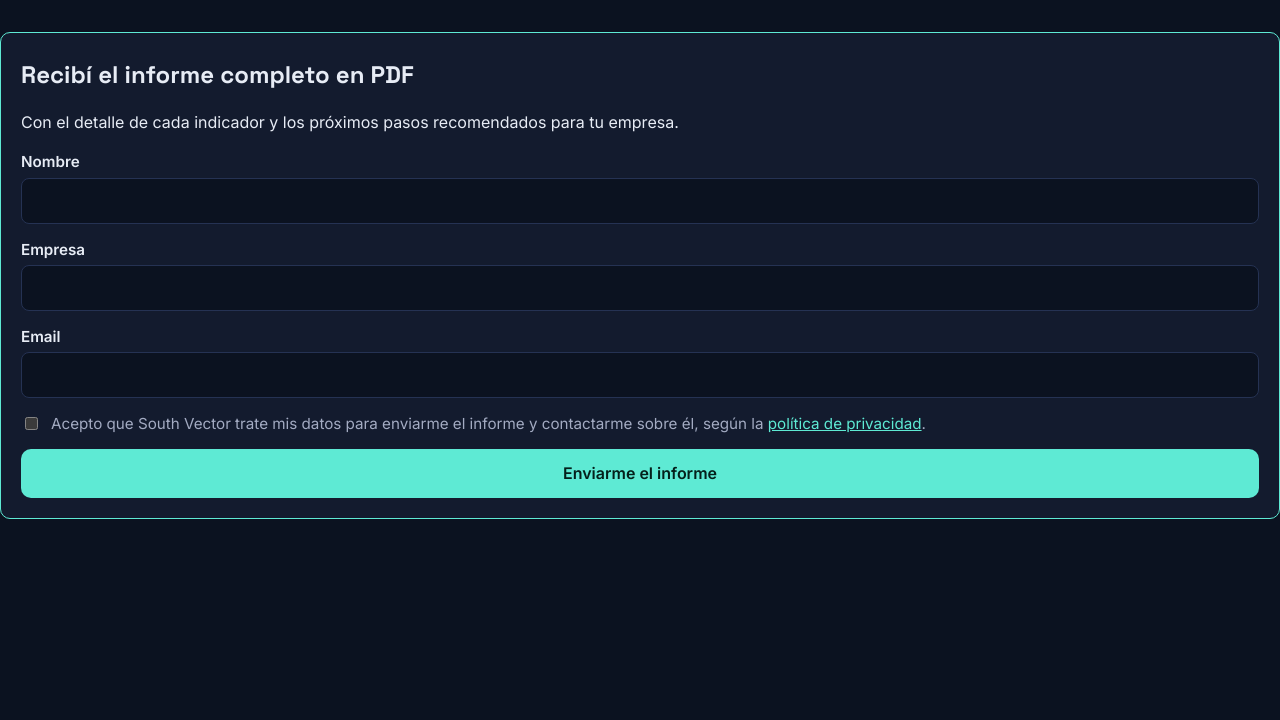
Test case: PedidoInforme › muestra el error que devuelve el servidor
Type "Ana" into the field labelled "Nombre".
click(640, 201); type("Ana")  # box 21,178 -> 1259,224
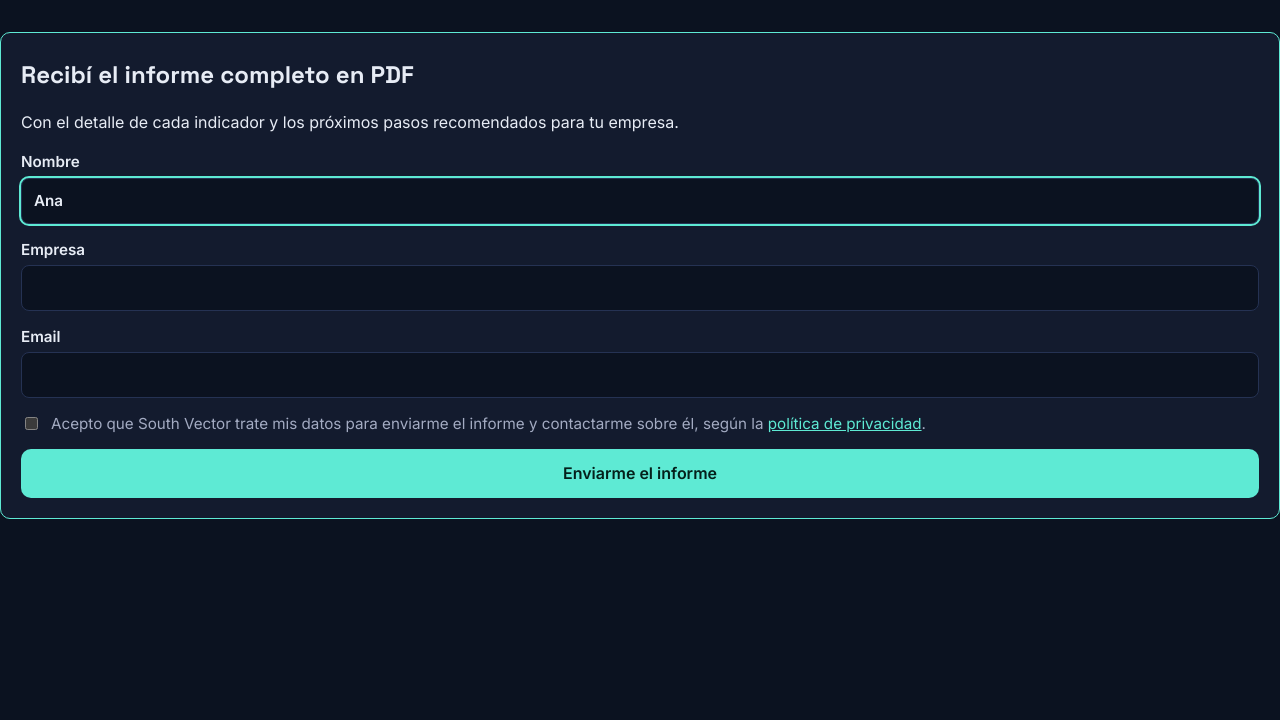
Type "ACME" into the field labelled "Empresa".
click(640, 288); type("ACME")  # box 21,265 -> 1259,311
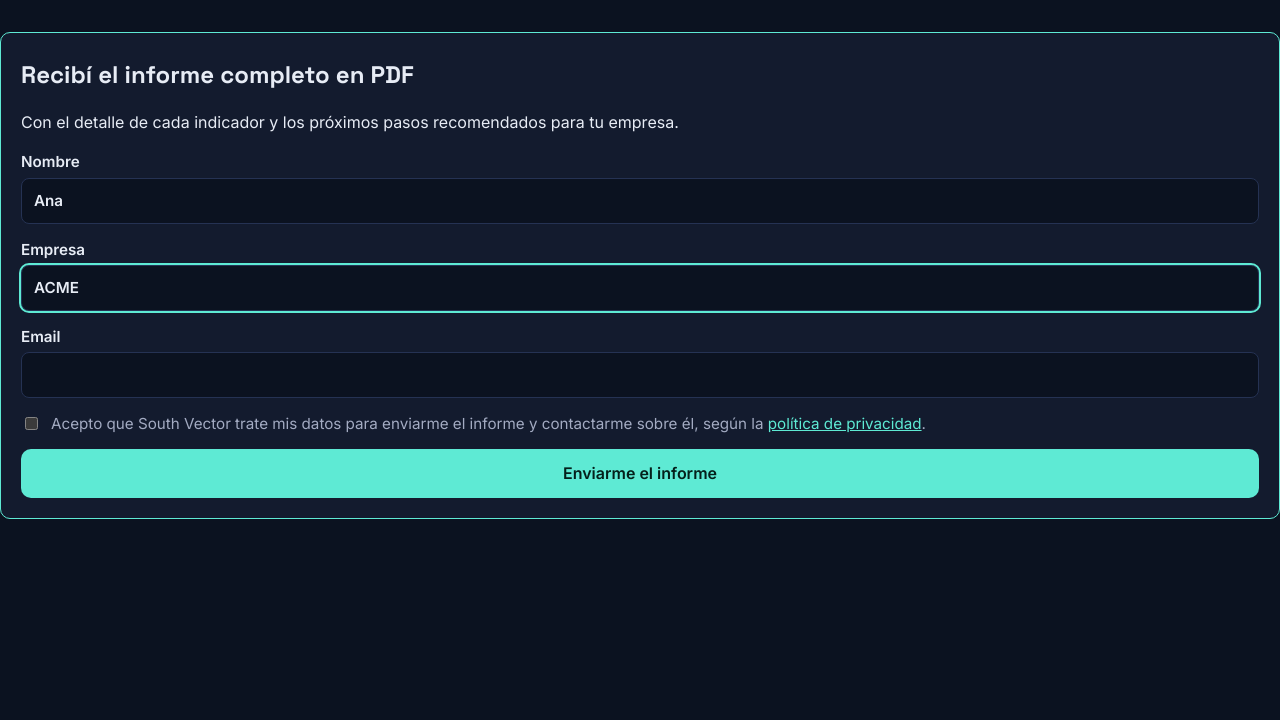
Type "ana@acme.com" into the field labelled "Email".
click(640, 375); type("ana@acme.com")  # box 21,352 -> 1259,398
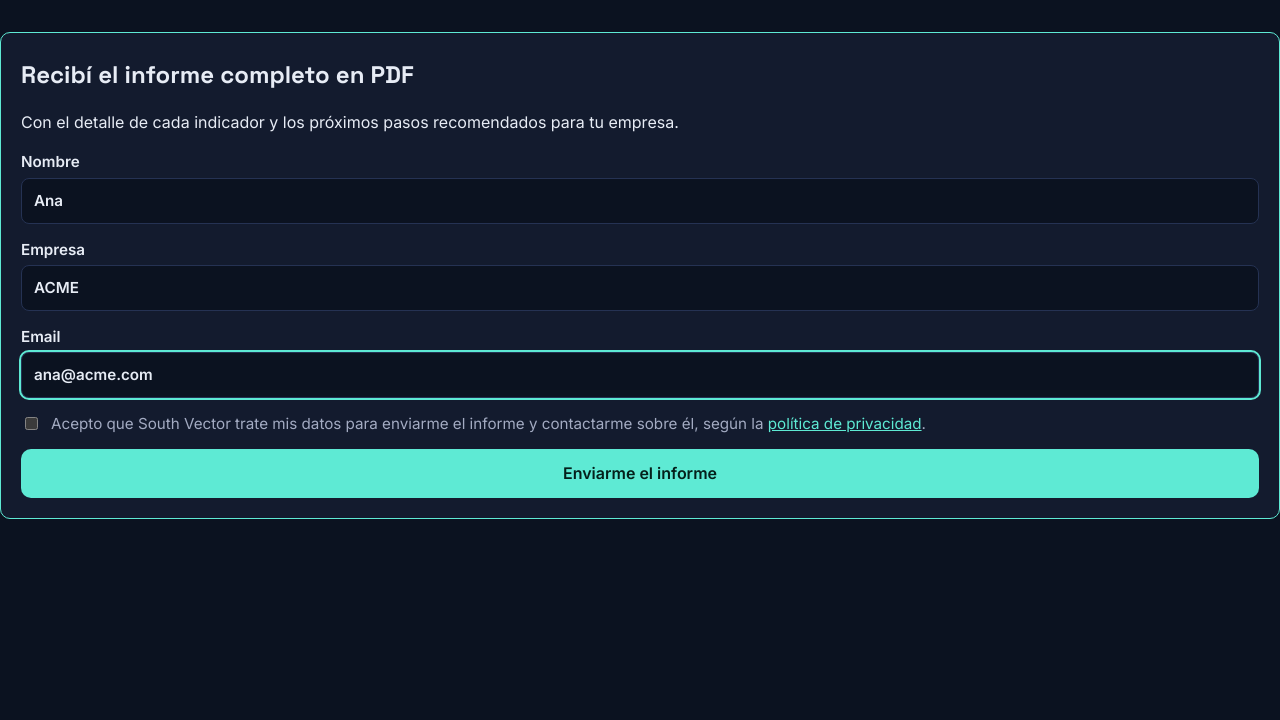
Click the checkbox.
click(32, 423)  # box 25,417 -> 38,430
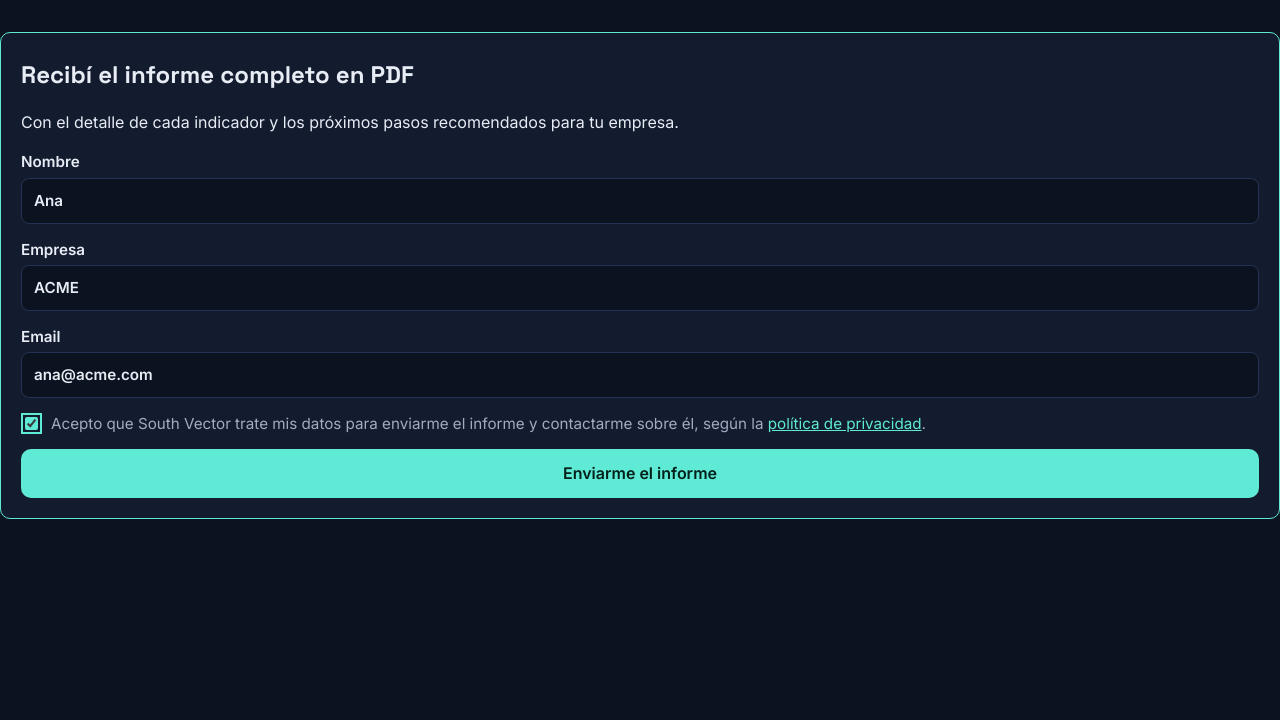
Click the button "Enviarme el informe".
click(640, 474)  # box 21,449 -> 1259,498
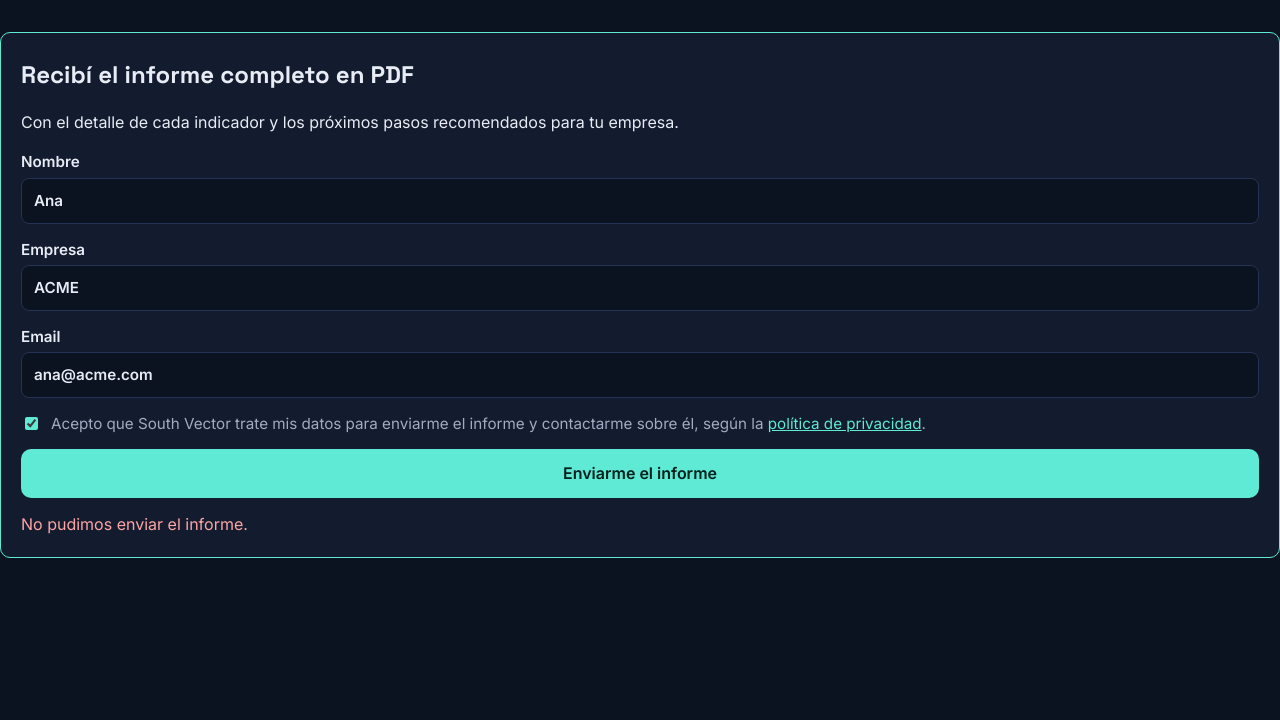
Expected: the message reads "No pudimos enviar el informe.", 21,514 -> 248,534
